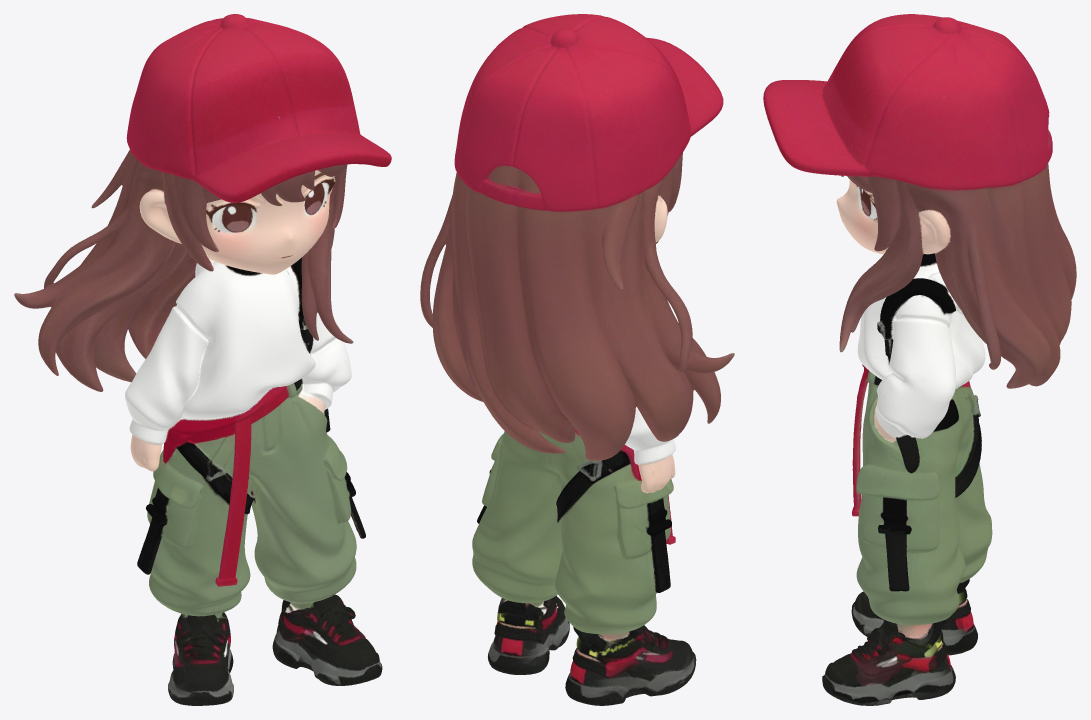
The model's file is Meshy_AI_Chibi_Figure_1115065153_texture-compressed.glb.
3 views of the same model, side by side, from view 1: azimuth 30°, elevation 25°; view 2: azimuth 150°, elevation 25°; view 3: azimuth 270°, elevation 25° (orthographic). The views are drawn at different scales.
Parts seen in each view (by area): view 1: Mesh_0; view 2: Mesh_0; view 3: Mesh_0.
Part boxes in pixels (<box>): Mesh_0: <box>14,14,391,705</box>; Mesh_0: <box>420,14,734,705</box>; Mesh_0: <box>763,14,1076,705</box>.
Bounding box in the file's own units: 0.9618 × 1.9 × 0.8389.
1 material, 1 textured.
